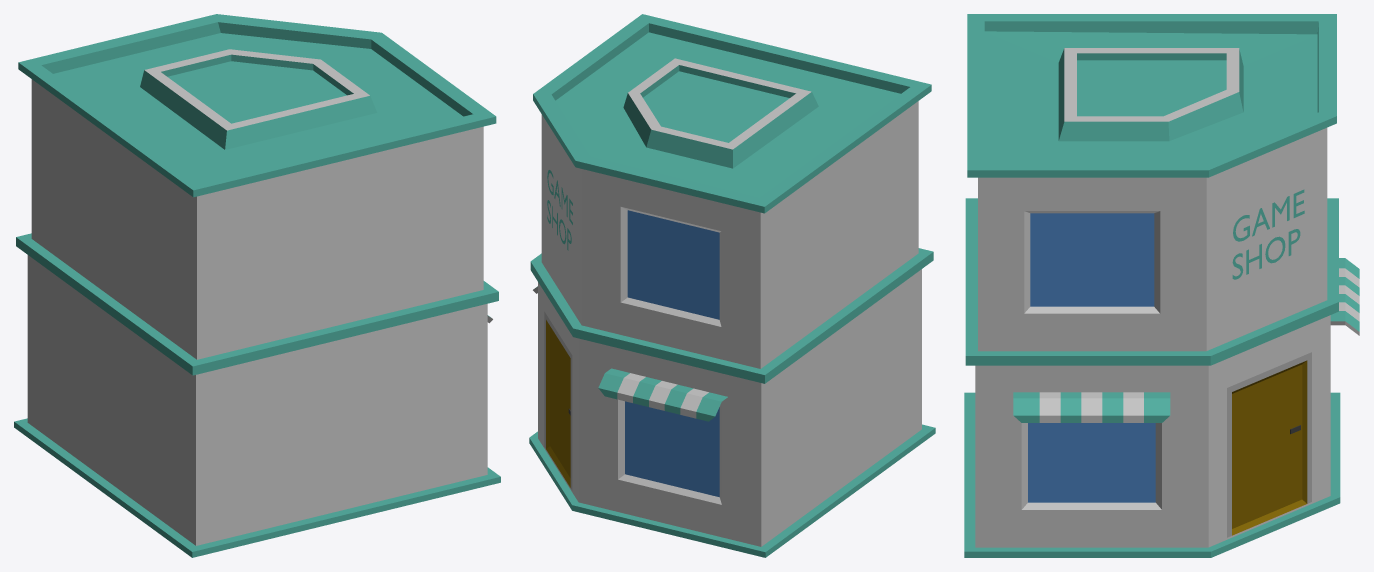
Rendered from game_shop.glb.
3 views of the same model, side by side, from view 1: azimuth 30°, elevation 25°; view 2: azimuth 150°, elevation 25°; view 3: azimuth 270°, elevation 25° (orthographic). The views are drawn at different scales.
Visible parts, largest first — view 1: Game Shop_Material.024_0; view 2: Game Shop_Material.024_0; view 3: Game Shop_Material.024_0.
Boxes of the visible parts, box(x1,y1,x2,y2) form: Game Shop_Material.024_0: box(14, 14, 500, 557); Game Shop_Material.024_0: box(529, 14, 935, 557); Game Shop_Material.024_0: box(964, 14, 1359, 557).
Bounding box in the file's own units: 2.29 × 2.52 × 2.29.
Materials: 1 (1 with a texture image).
